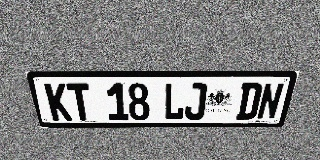1: (105, 83, 129, 120)
8: (127, 83, 149, 120)
D: (236, 83, 263, 120)
J: (184, 83, 208, 120)
K: (44, 83, 73, 121)
L: (164, 83, 186, 120)
N: (256, 83, 285, 119)
T: (66, 83, 93, 120)
